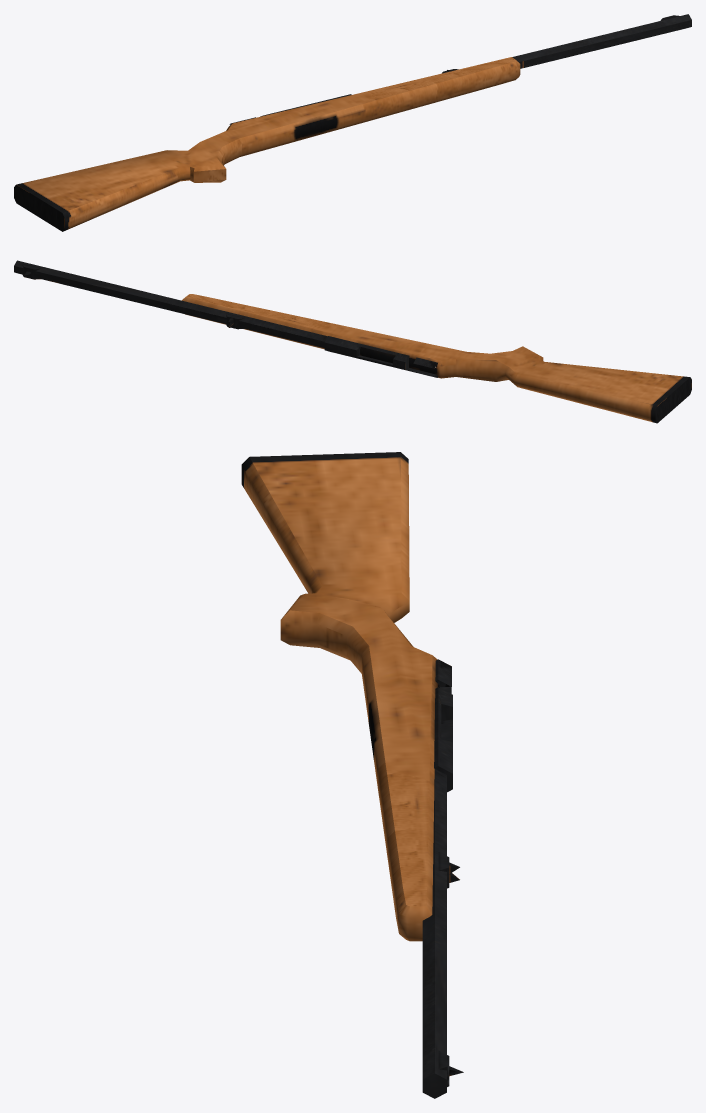
The model's file is HuntingRifle.glb.
3 renders of one model, top to bottom at view 1: azimuth 30°, elevation 25°; view 2: azimuth 150°, elevation 25°; view 3: azimuth 270°, elevation 25°, orthographic. The views are drawn at different scales.
Parts seen in each view (by area): view 1: Hunting_rifle.001; view 2: Hunting_rifle.001; view 3: Hunting_rifle.001.
Boxes of the visible parts, x1,y1,x2,y2 form: Hunting_rifle.001: [14, 14, 691, 231]; Hunting_rifle.001: [14, 260, 691, 423]; Hunting_rifle.001: [241, 452, 463, 1098].
Size of the model in its own units: 2.06 by 0.0686 by 0.3148.
1 material, 1 textured.
